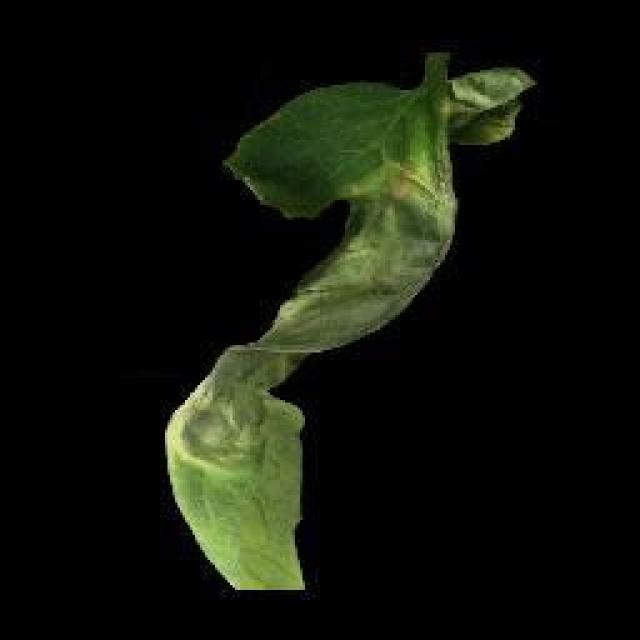Tomato Late Blight: (133, 166, 502, 572)
